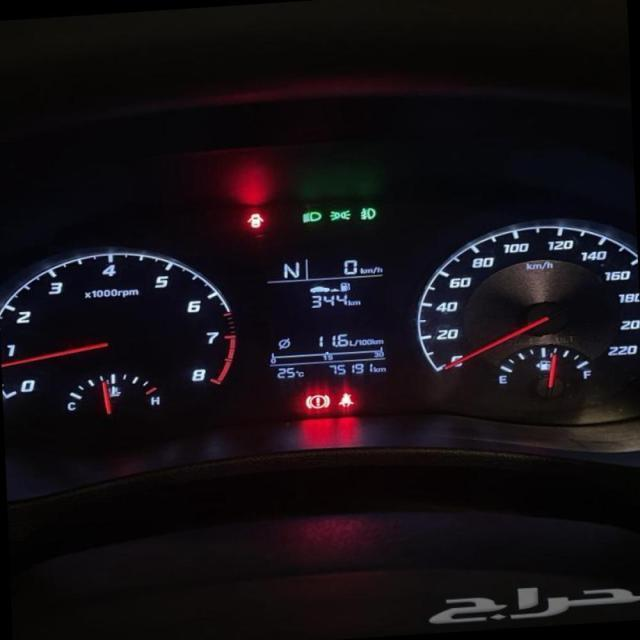Seat Belt: (340, 388, 353, 408)
